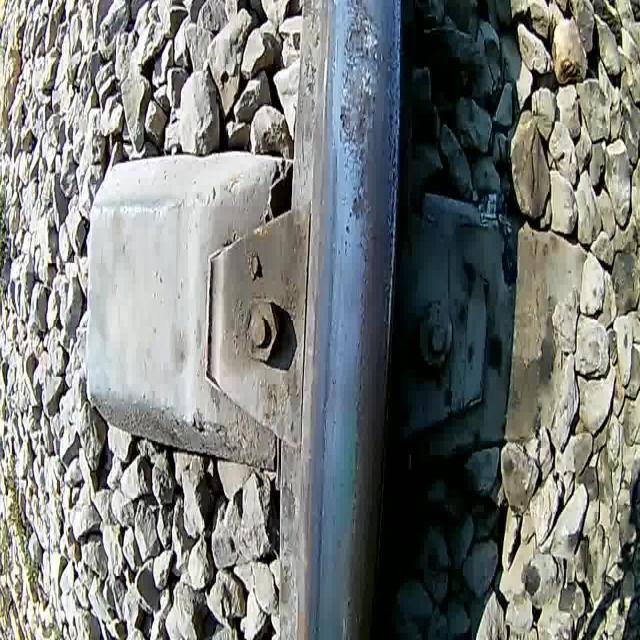Spallings: (337, 0, 383, 150)
Squats: (334, 0, 387, 235)
